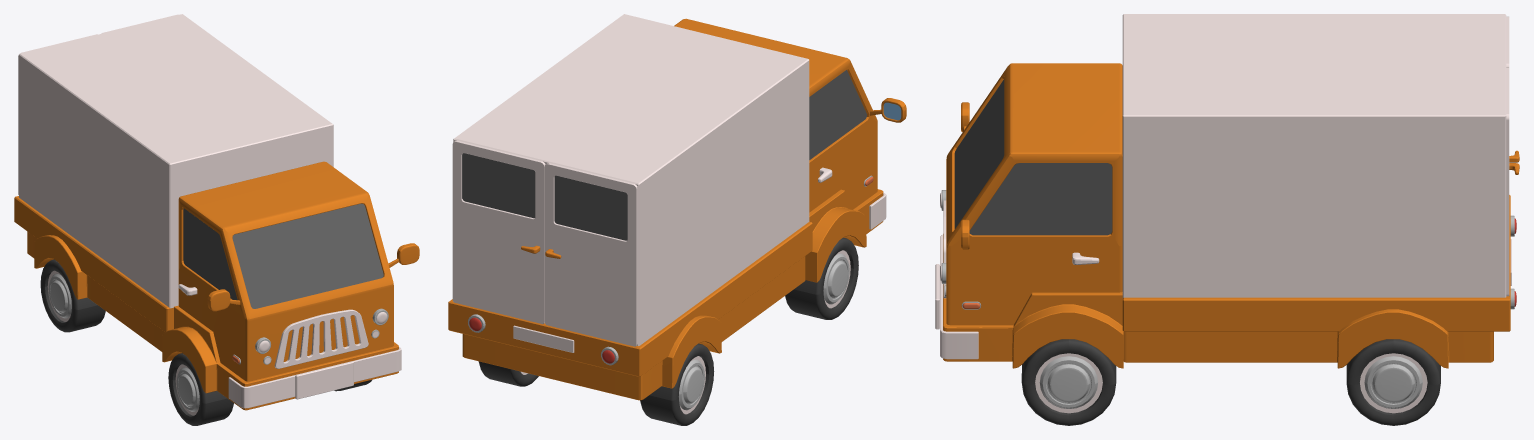
File: Truck.fbx
3 renders of one model, left to right at view 1: azimuth 30°, elevation 25°; view 2: azimuth 150°, elevation 25°; view 3: azimuth 270°, elevation 25°, orthographic. The views are drawn at different scales.
Visible parts, largest first — view 1: Truck; view 2: Truck; view 3: Truck.
Part boxes in pixels (box(x1,y1,x2,y2)): Truck: box(14, 14, 419, 425); Truck: box(448, 14, 906, 425); Truck: box(935, 14, 1519, 425).
Size of the model in its own units: 317 by 352 by 602.
Materials: 1 (1 with a texture image).
